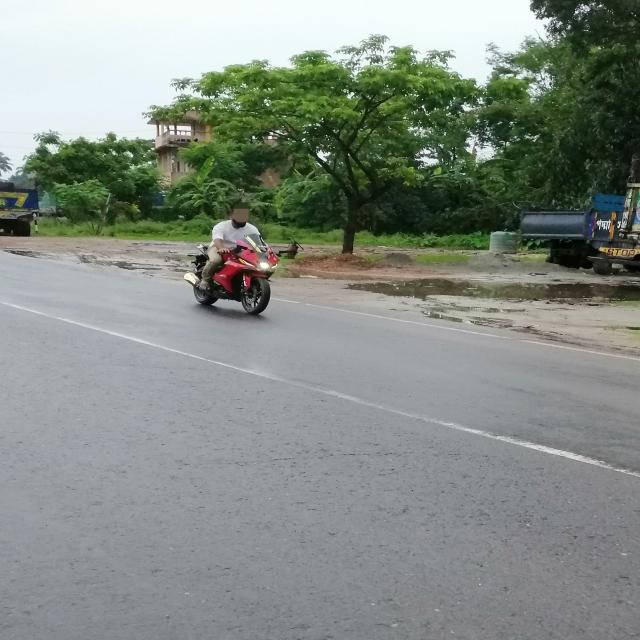Motorbike: (171, 231, 308, 317)
